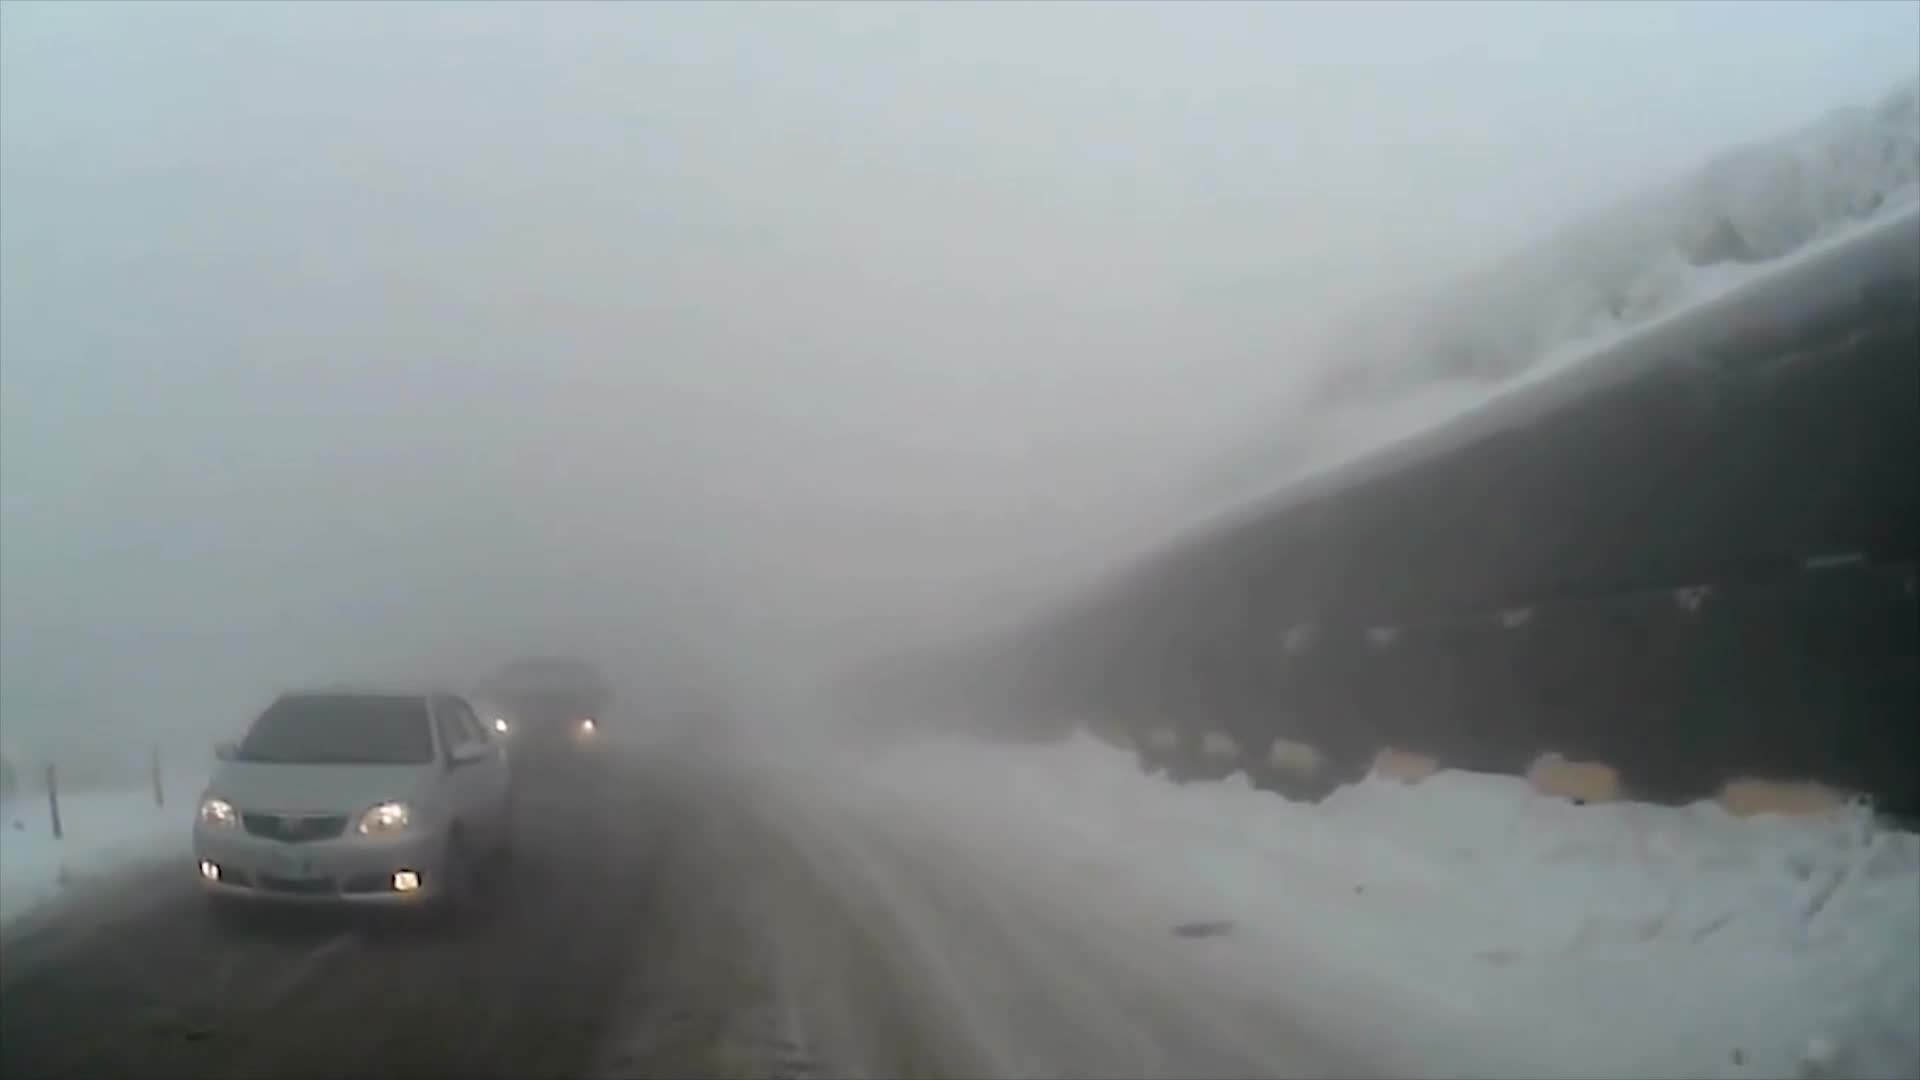vehicle: (185, 684, 520, 934), (480, 651, 615, 775)
